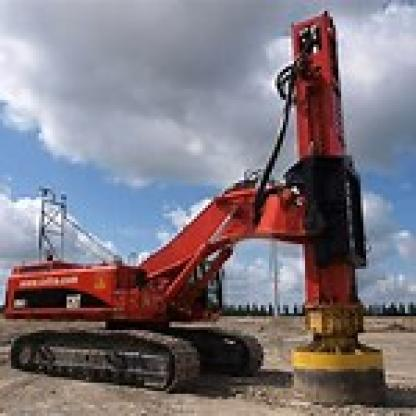excavator: (11, 6, 413, 413)
